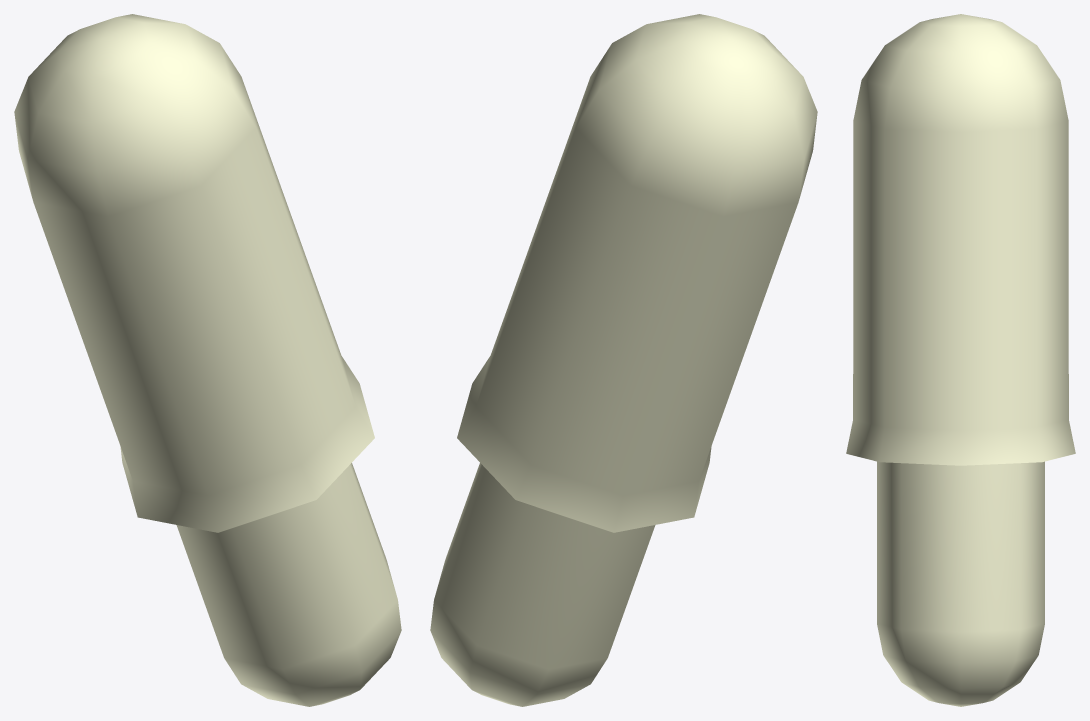
File: LeftArm.fbx
3 views of the same model, side by side, from view 1: azimuth 30°, elevation 25°; view 2: azimuth 150°, elevation 25°; view 3: azimuth 270°, elevation 25° (orthographic). The views are drawn at different scales.
Visible parts, largest first — view 1: LeftArm; view 2: LeftArm; view 3: LeftArm.
Boxes of the visible parts, box(x1,y1,x2,y2) form: LeftArm: box(14, 14, 401, 706); LeftArm: box(430, 14, 817, 706); LeftArm: box(846, 14, 1075, 706).
Bounding box in the file's own units: 10.57 × 19.87 × 6.82.
